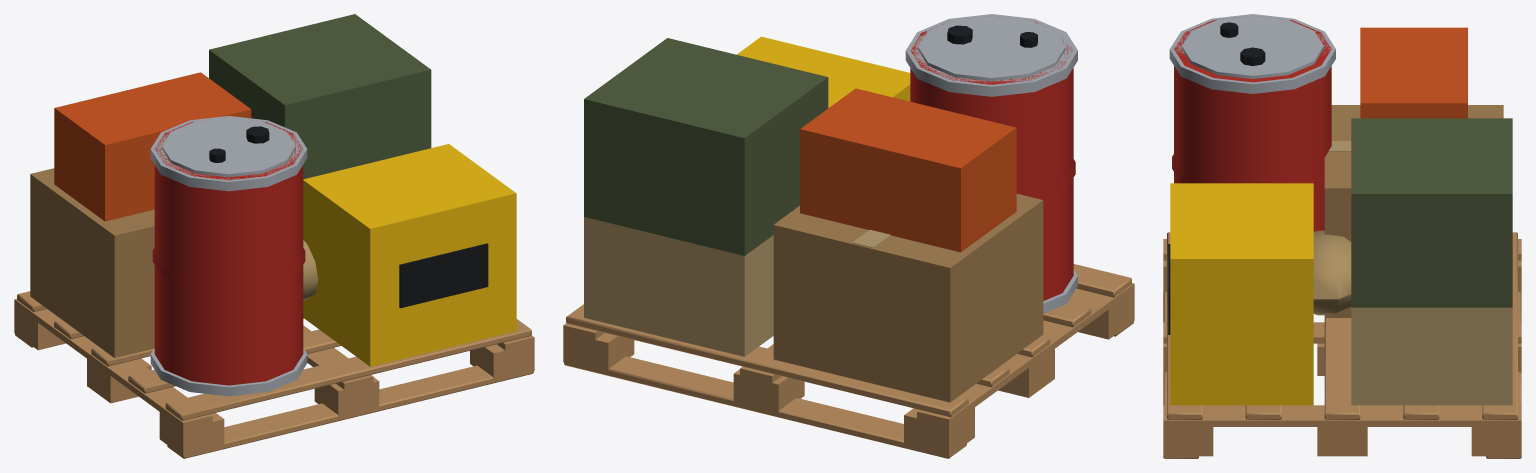
File: pallet_mixed_goods.glb
3 views of the same model, side by side, from view 1: azimuth 30°, elevation 25°; view 2: azimuth 150°, elevation 25°; view 3: azimuth 270°, elevation 25° (orthographic). The views are drawn at different scales.
Visible parts, largest first — view 1: pallet_mixed_goods; view 2: pallet_mixed_goods; view 3: pallet_mixed_goods.
Part boxes in pixels (bbox=[...]): pallet_mixed_goods: bbox=[14, 14, 534, 458]; pallet_mixed_goods: bbox=[563, 14, 1134, 458]; pallet_mixed_goods: bbox=[1163, 14, 1521, 458].
Bounding box in the file's own units: 1.2 × 0.879 × 1.
